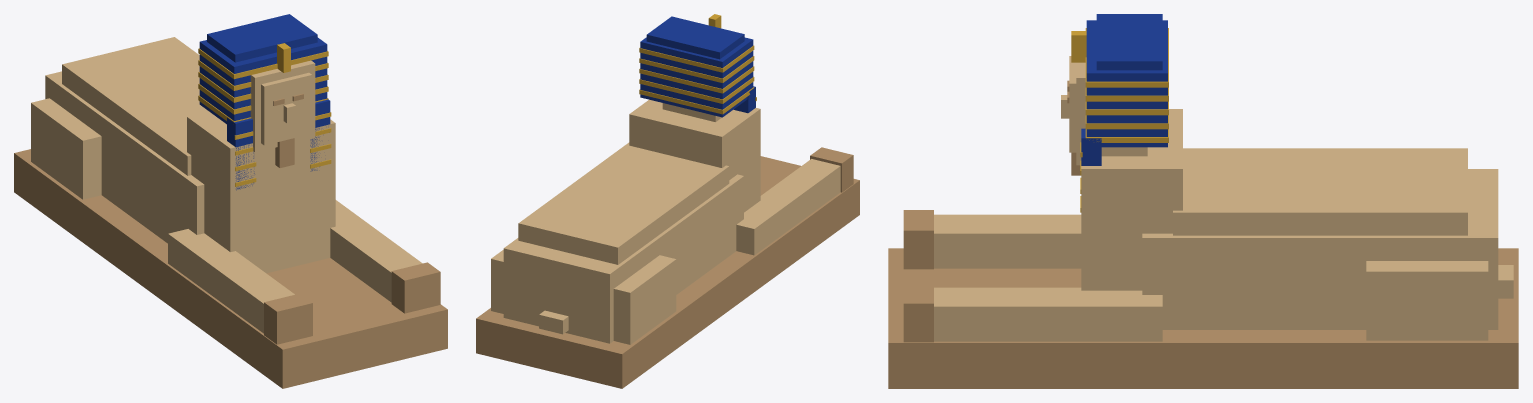
Rendered from eg_sphinx.glb.
3 renders of one model, left to right at view 1: azimuth 30°, elevation 25°; view 2: azimuth 150°, elevation 25°; view 3: azimuth 270°, elevation 25°, orthographic. The views are drawn at different scales.
Parts seen in each view (by area): view 1: eg_sphinx; view 2: eg_sphinx; view 3: eg_sphinx.
Boxes of the visible parts, box(x1,y1,x2,y2) form: eg_sphinx: box(14, 14, 447, 388); eg_sphinx: box(476, 14, 859, 388); eg_sphinx: box(888, 14, 1518, 388).
Bounding box in the file's own units: 2.2 × 3.35 × 6.2.
